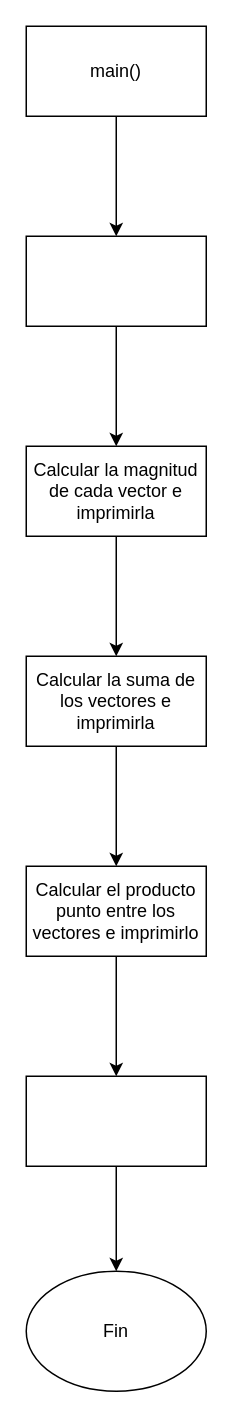
The diagram is 233 pixels wide and 1418 high, and some of its shapes have lost their labels. The shapes that lost their labels are listed below. From the top down, each one's centre as x and y in pixels, then its label:
At (115,280): "Solicitar vectores y almacenarlos".
At (115,1120): "Calcular el producto cruz entre los vectores e imprimirlo".
